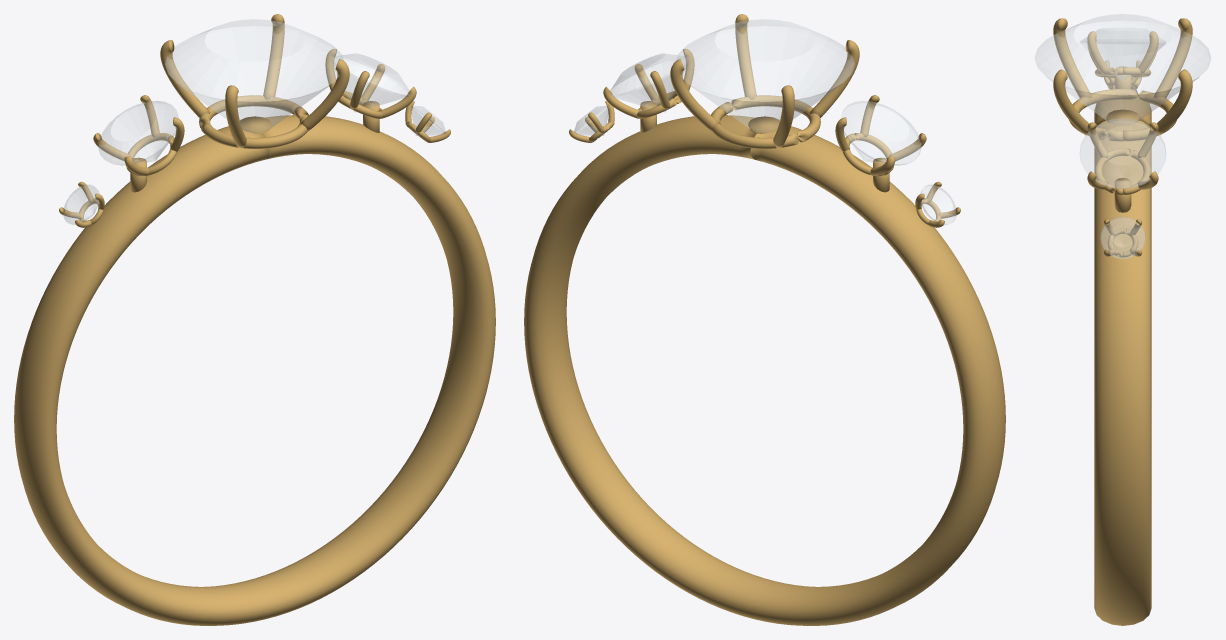
The model's file is layouts-graduated.glb.
The picture shows the model from 3 angles, left to right: view 1: azimuth 30°, elevation 25°; view 2: azimuth 150°, elevation 25°; view 3: azimuth 270°, elevation 25°; orthographic projection.
Parts seen in each view (by area): view 1: Band, Gem, Gem.001, Lower gallery, Gem.003, Prong.001, Prong, Gem.002, Prong.003, Prong.002, Lower gallery.001; view 2: Band, Gem, Gem.001, Lower gallery, Gem.003, Prong.002, Prong.003, Gem.002, Prong, Prong.001, Lower gallery.001; view 3: Band, Gem, Gem.003, Gem.001, Lower gallery, Gem.004, Prong.001, Prong.002, Lower gallery.003, Prong, Prong.003, Side head support.001 (+7 smaller).
Part boxes in pixels (x1,y1,x2,y2): Band: [14, 115, 495, 625]; Gem: [165, 19, 343, 132]; Gem.001: [98, 101, 178, 165]; Lower gallery: [199, 95, 308, 148]; Gem.003: [331, 53, 409, 111]; Prong.001: [160, 40, 210, 117]; Prong: [263, 14, 284, 99]; Gem.002: [63, 185, 99, 224]; Prong.003: [299, 59, 349, 131]; Prong.002: [225, 85, 246, 148]; Lower gallery.001: [125, 133, 176, 176]; Band: [524, 115, 1005, 625]; Gem: [676, 19, 854, 132]; Gem.001: [841, 101, 921, 165]; Lower gallery: [711, 95, 820, 148]; Gem.003: [610, 53, 688, 111]; Prong.002: [809, 40, 859, 117]; Prong.003: [735, 14, 756, 99]; Gem.002: [920, 185, 956, 224]; Prong: [670, 59, 720, 131]; Prong.001: [773, 85, 794, 148]; Lower gallery.001: [843, 133, 894, 176]; Band: [1094, 97, 1151, 625]; Gem: [1035, 14, 1210, 121]; Gem.003: [1079, 118, 1166, 188]; Gem.001: [1080, 28, 1165, 80]; Lower gallery: [1069, 88, 1176, 141]; Gem.004: [1101, 217, 1144, 258]; Prong.001: [1154, 18, 1192, 98]; Prong.002: [1053, 18, 1091, 98]; Lower gallery.003: [1094, 148, 1151, 194]; Prong: [1157, 69, 1192, 135]; Prong.003: [1053, 69, 1088, 135]; Side head support.001: [1114, 178, 1131, 212].
Bounding box in the file's own units: 19.6 × 22.94 × 6.5.
